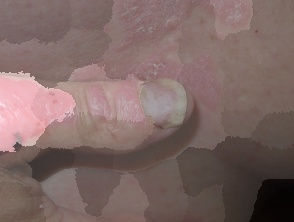Nail_psoriasis: (106, 69, 194, 135)
